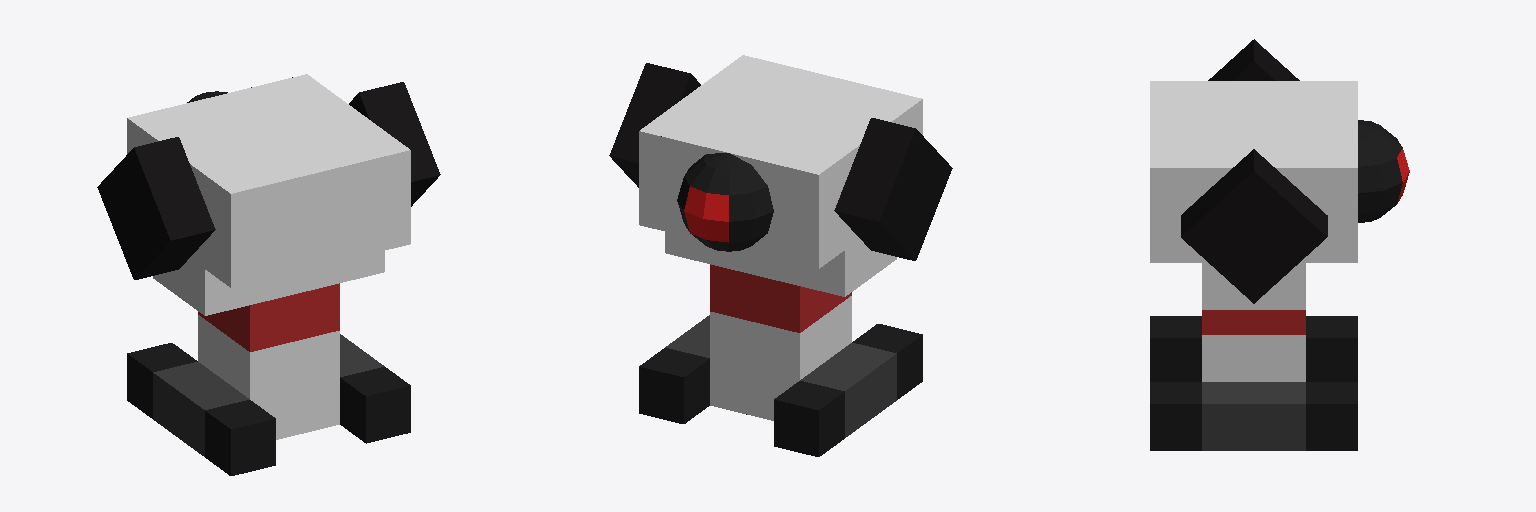
The picture shows the model from 3 angles: view 1: azimuth 30°, elevation 25°; view 2: azimuth 150°, elevation 25°; view 3: azimuth 270°, elevation 25°; orthographic projection.
Visible parts, largest first — view 1: cube.000, cube, cube.002, cube.004, cube.001, cube.003, cube.005; view 2: cube.000, cube, cube.002, cube.004, sphere, cube.001, cube.003, cube.005; view 3: cube.000, cube.003, cube.005, cube, cube.002, sphere, cube.001, cube.004.
Boxes of the visible parts, <box> form: cube.000: <box>127,74,410,287</box>; cube: <box>198,283,339,439</box>; cube.002: <box>127,343,275,475</box>; cube.004: <box>97,137,215,279</box>; cube.001: <box>153,251,384,315</box>; cube.003: <box>340,334,410,443</box>; cube.005: <box>349,82,440,206</box>; cube.000: <box>639,55,922,268</box>; cube: <box>710,264,851,420</box>; cube.002: <box>774,324,922,456</box>; cube.004: <box>834,118,952,260</box>; sphere: <box>677,153,773,251</box>; cube.001: <box>665,232,896,296</box>; cube.003: <box>639,315,709,423</box>; cube.005: <box>609,63,700,187</box>; cube.000: <box>1150,81,1357,262</box>; cube.003: <box>1150,382,1357,450</box>; cube.005: <box>1181,149,1327,303</box>; cube: <box>1202,310,1305,381</box>; cube.002: <box>1150,316,1357,381</box>; sphere: <box>1358,120,1409,222</box>; cube.001: <box>1202,263,1305,309</box>; cube.004: <box>1208,39,1299,80</box>.
Size of the model in its own units: 0.375 by 0.4009 by 0.3125.
Materials: 1 (1 with a texture image).